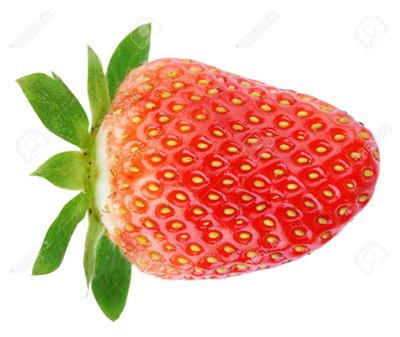strawberry: (0, 0, 400, 337)
